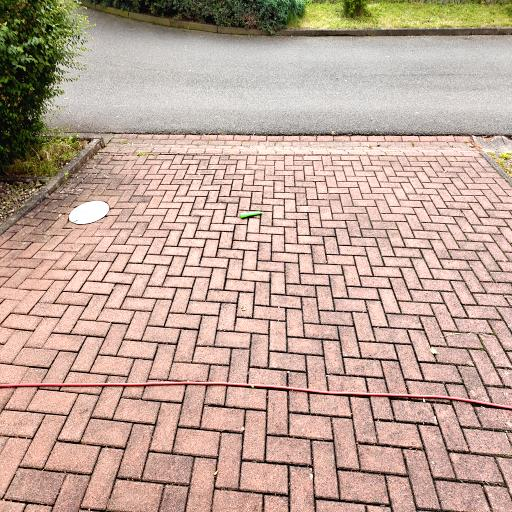Probe-Detection: (240, 211, 262, 218)
